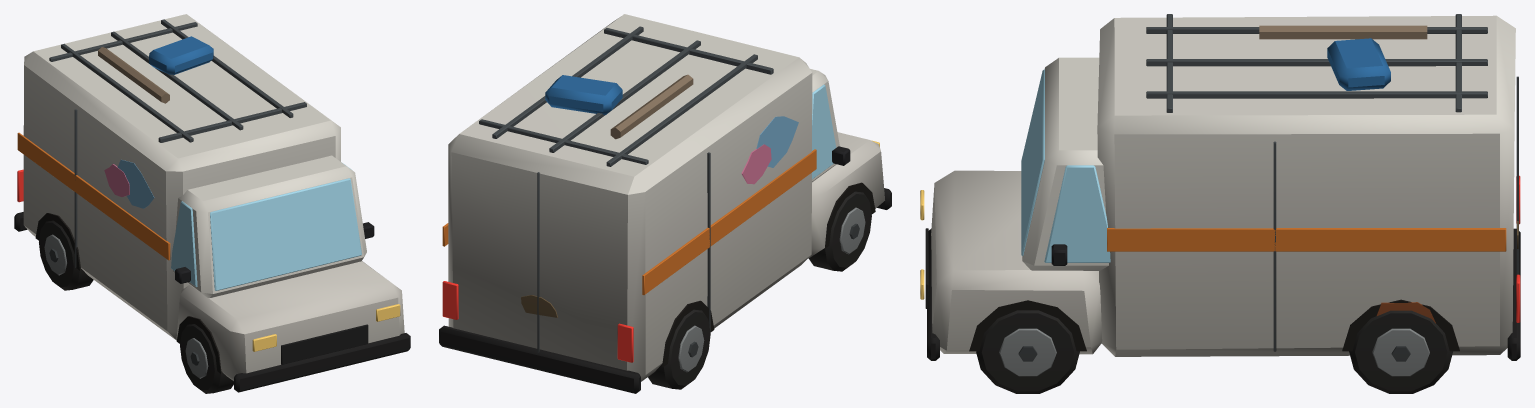
File: 18_camionnette.fbx
The picture shows the model from 3 angles, left to right: view 1: azimuth 30°, elevation 25°; view 2: azimuth 150°, elevation 25°; view 3: azimuth 270°, elevation 25°; orthographic projection. The views are drawn at different scales.
Visible parts, largest first — view 1: Carrosserie, Vitres, Roue_AvD, Roue_ArD, Phares; view 2: Carrosserie, Roue_ArD, Roue_AvD, Vitres, FeuxArriere; view 3: Carrosserie, Vitres, Roue_AvG, Roue_ArG.
Part boxes in pixels (x1,y1,x2,y2): Carrosserie: [14, 14, 410, 392]; Vitres: [171, 163, 361, 290]; Roue_AvD: [180, 324, 233, 393]; Roue_ArD: [39, 220, 93, 290]; Phares: [252, 304, 400, 351]; Carrosserie: [439, 14, 891, 393]; Roue_ArD: [648, 309, 710, 389]; Roue_AvD: [808, 191, 871, 271]; Vitres: [812, 84, 836, 179]; FeuxArriere: [442, 281, 633, 362]; Carrosserie: [925, 14, 1520, 360]; Vitres: [1021, 69, 1110, 262]; Roue_AvG: [976, 310, 1079, 393]; Roue_ArG: [1349, 310, 1452, 393].
Bounding box in the file's own units: 1.57 × 1.74 × 3.16.
Materials: 1 (1 with a texture image).
